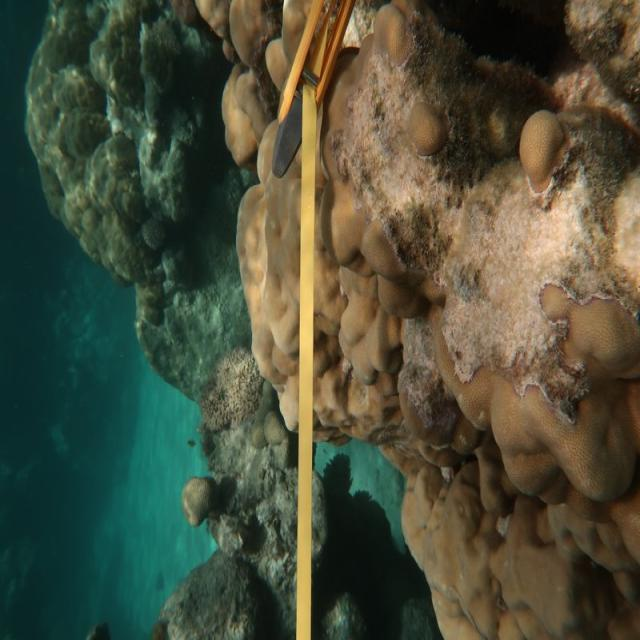Healthy Coral: (196, 0, 387, 429), (399, 376, 640, 638), (544, 281, 640, 374), (519, 106, 569, 192)
